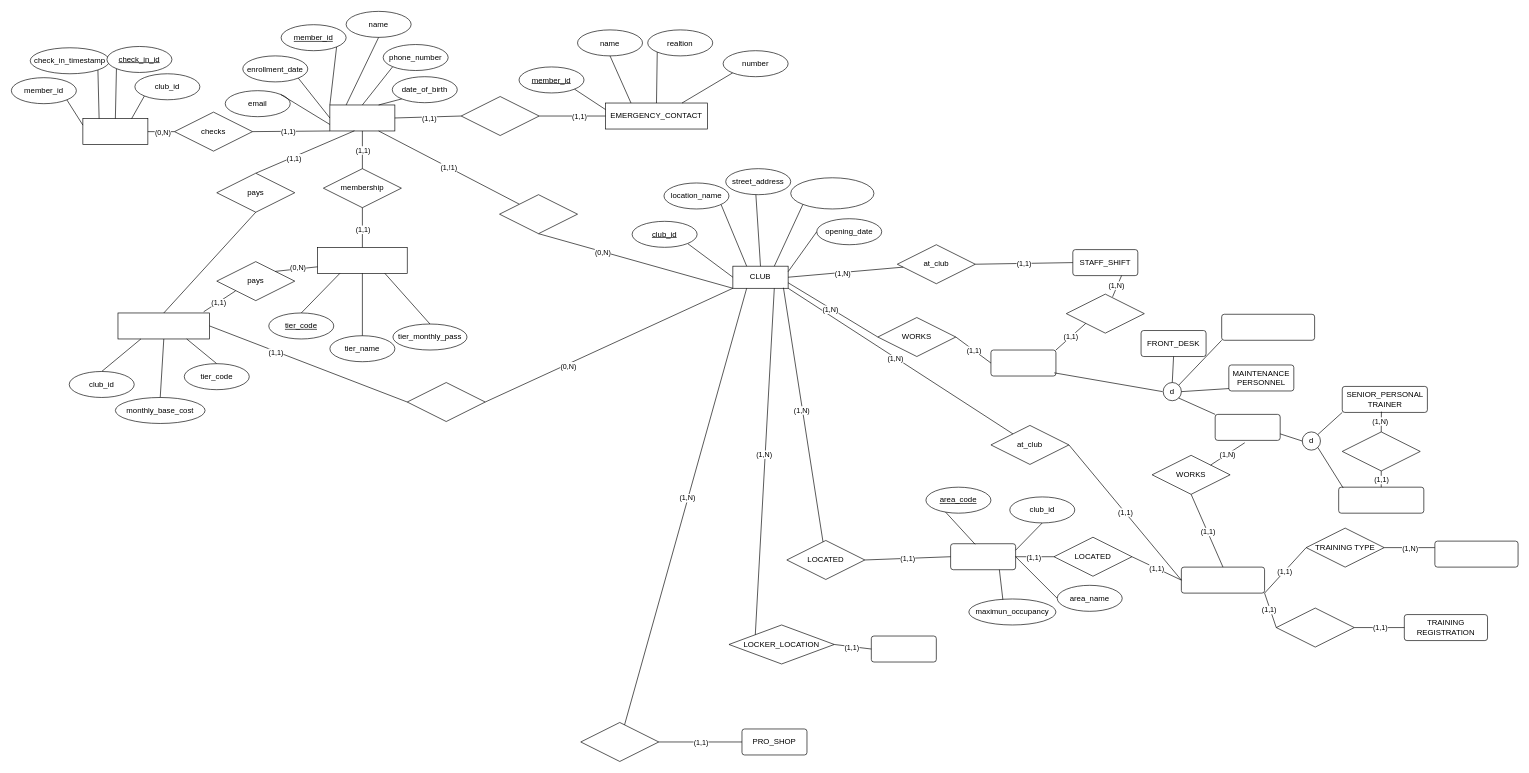
Some shapes in this 1529 by 773 pixel diagram are drawn without their labels. Each missing label, with the centre of its shape:
"assigned_shift" goes at [1105,313].
"CATALOG_TRAINING" goes at [1476,553].
"CHECK_IN" goes at [115,131].
"contacts" goes at [500,116].
"FACILITY_AREA" goes at [983,556].
"GENERAL_MANAGER" goes at [1268,327].
"GROUP_TRAINING" goes at [1223,579].
"home_clubs" goes at [538,214].
"JUNIOR_PERSONAL TRAINER" goes at [1381,500].
"LOCKER" goes at [903,648].
"main_phone_number" goes at [832,193].
"MEMBER" goes at [362,117].
"MEMBERSHIP_COST" goes at [163,325].
"MEMBERSHIP_TIER" goes at [362,260].
"mentors" goes at [1381,451].
"OPERATES" goes at [619,741].
"STAFF" goes at [1023,362].
"tier_fee" goes at [446,402].
"TRAINER" goes at [1247,427].
"training_session" goes at [1315,627].
